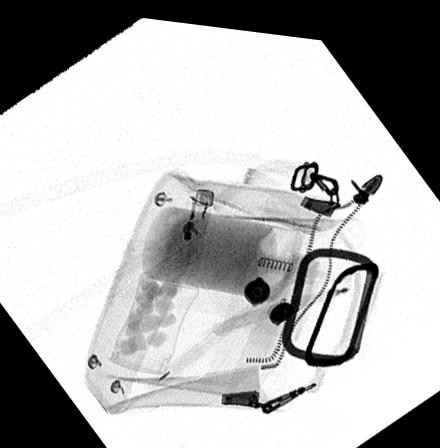Lighter: (173, 183, 214, 270)
